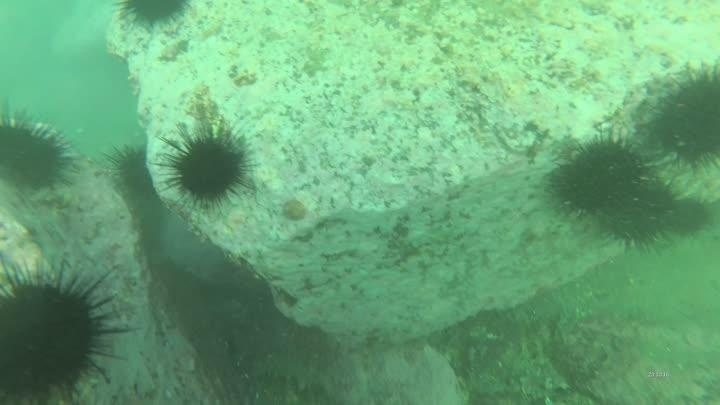echinus: (1, 257, 130, 404), (546, 130, 654, 222), (161, 125, 254, 211), (650, 62, 720, 173), (1, 106, 77, 193), (593, 178, 679, 253), (107, 141, 156, 201), (116, 1, 193, 31), (665, 194, 714, 238)
holothurian: (238, 351, 354, 403)
